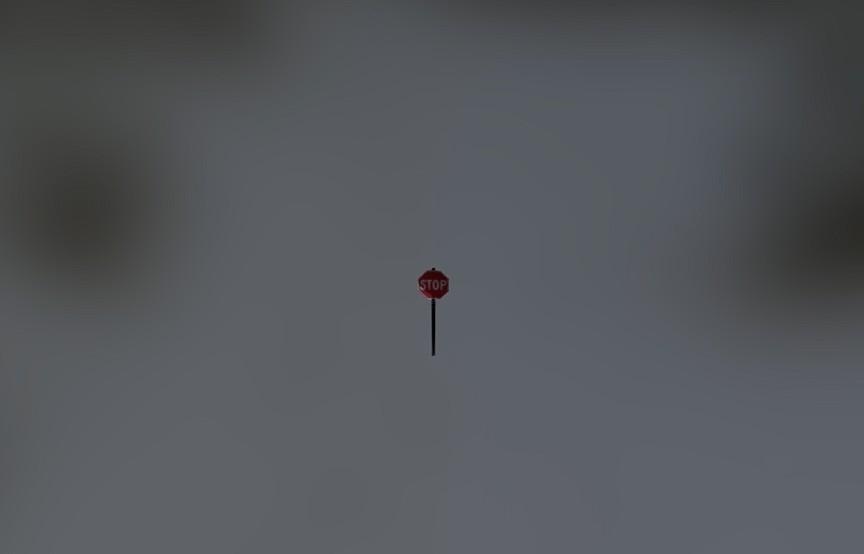Stop-Sign: (416, 266, 449, 356)
